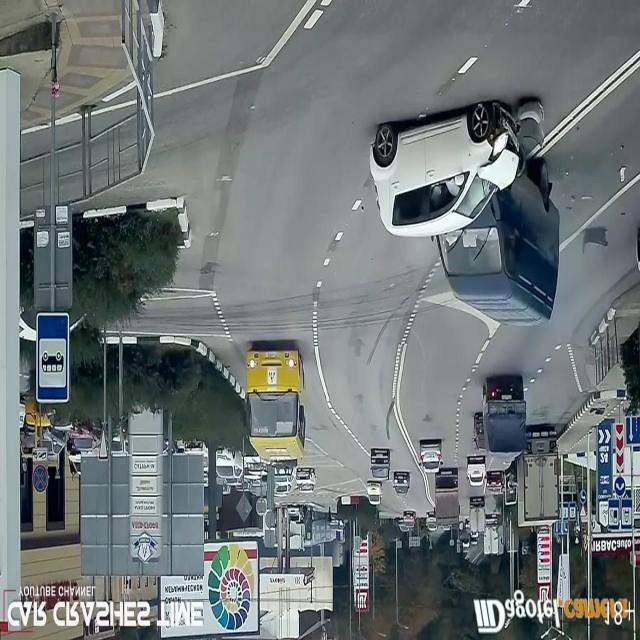vehicle: (365, 58, 580, 348)
